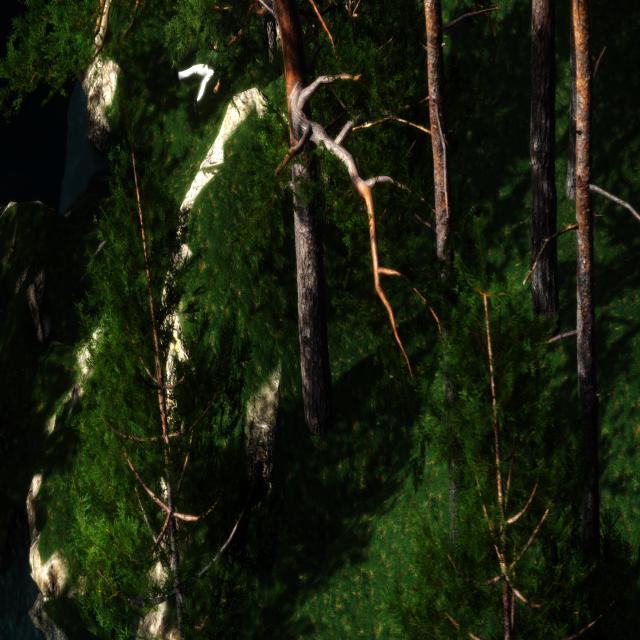Human: (172, 22, 225, 108)
